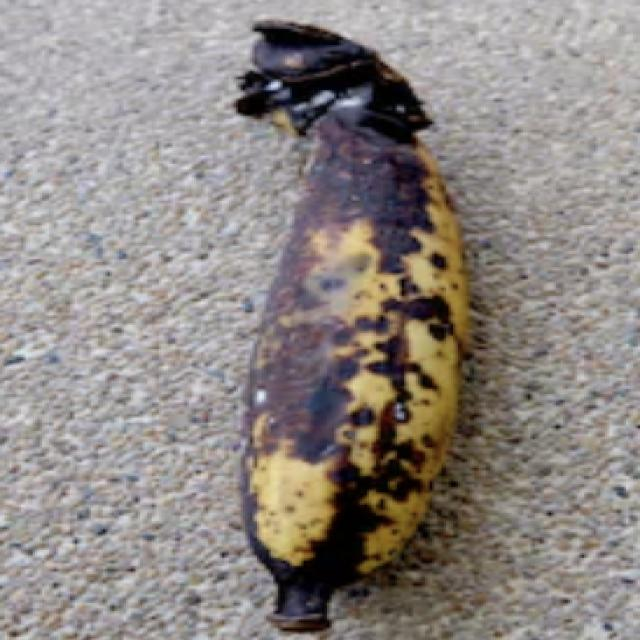Rotten: (171, 2, 492, 636)
